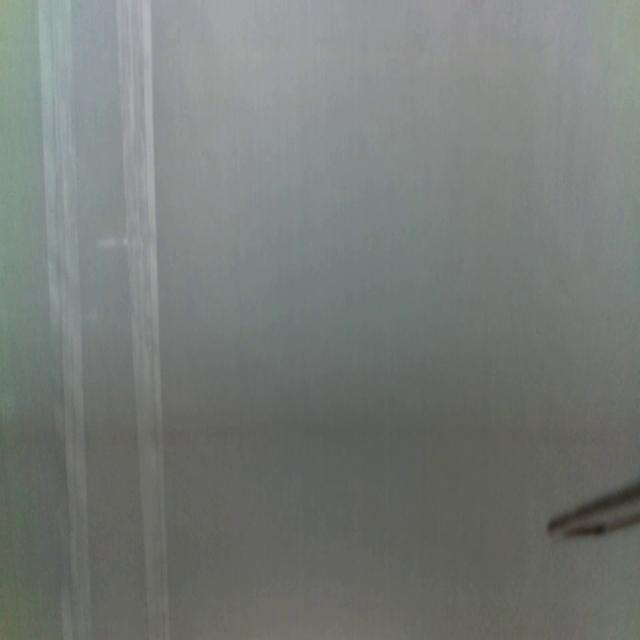color bleeding: (0, 390, 634, 465)
crease: (37, 0, 93, 640), (116, 0, 172, 640)
